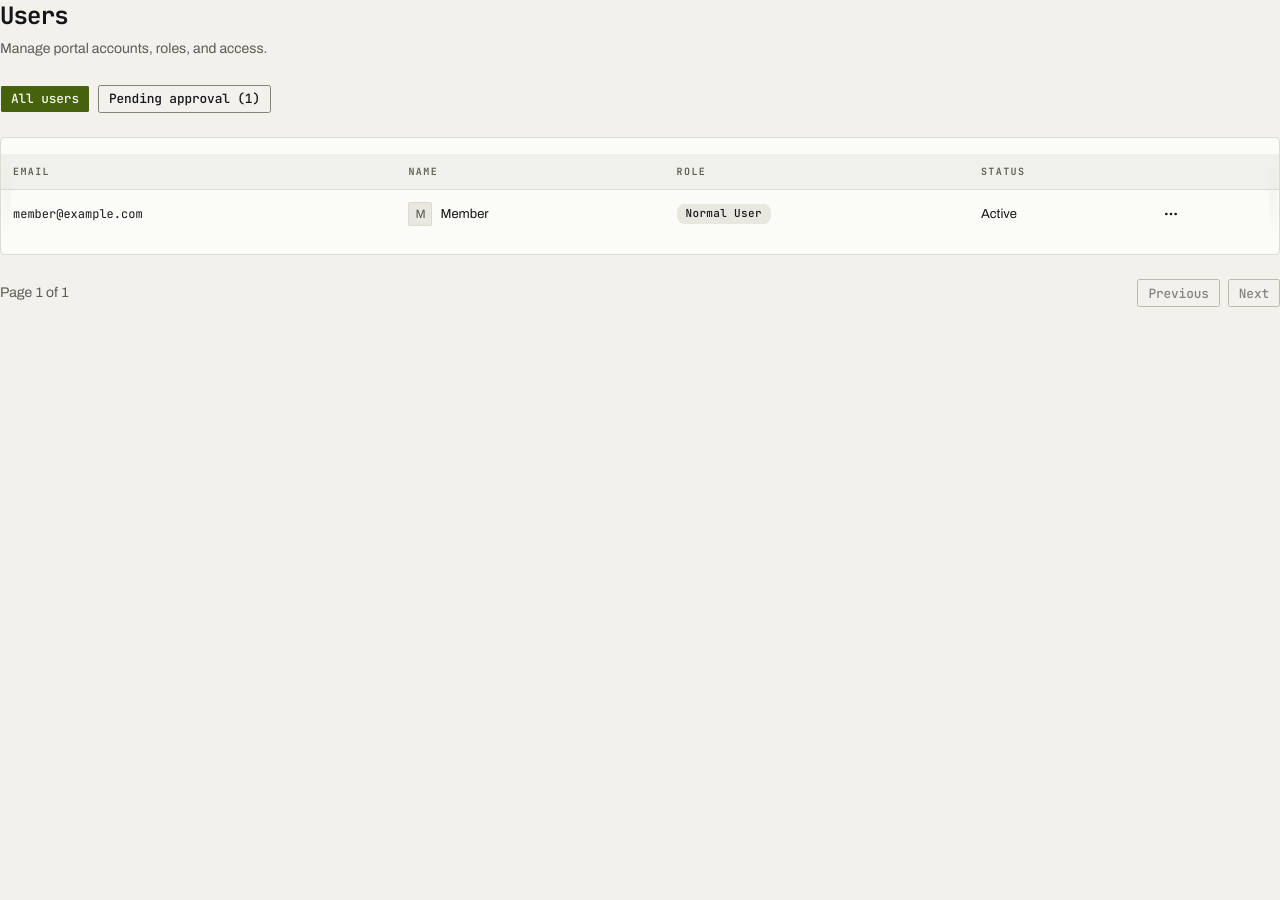
Test: AdminUsersPage role changes › cancelling the role confirmation changes nothing
The image size is (1280, 900).
Click the button named "Actions for": {"x": 1171, "y": 214} [1157,200,1185,228]
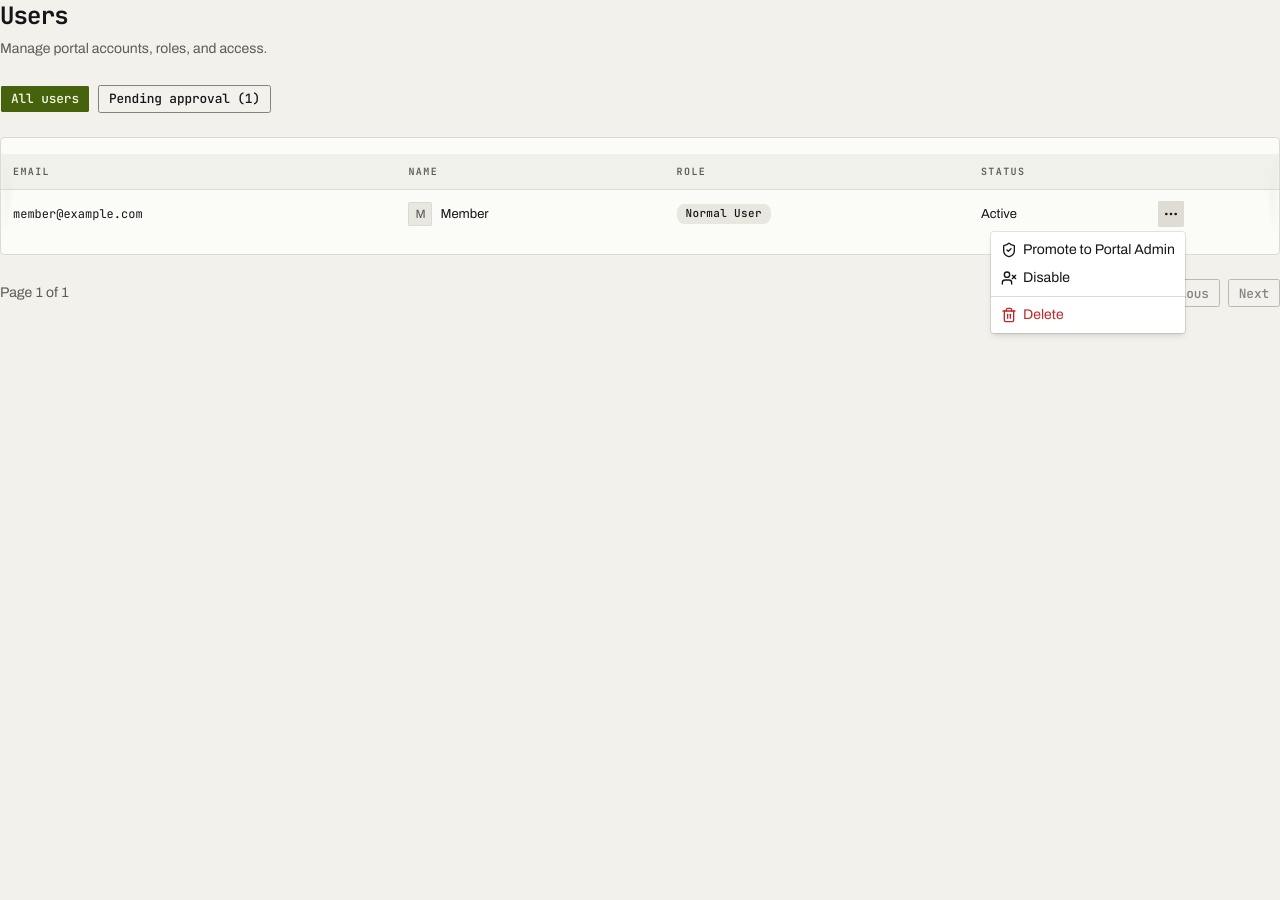
Click the menu item "Promote to Portal Admin": {"x": 1088, "y": 250} [1001,242,1175,258]
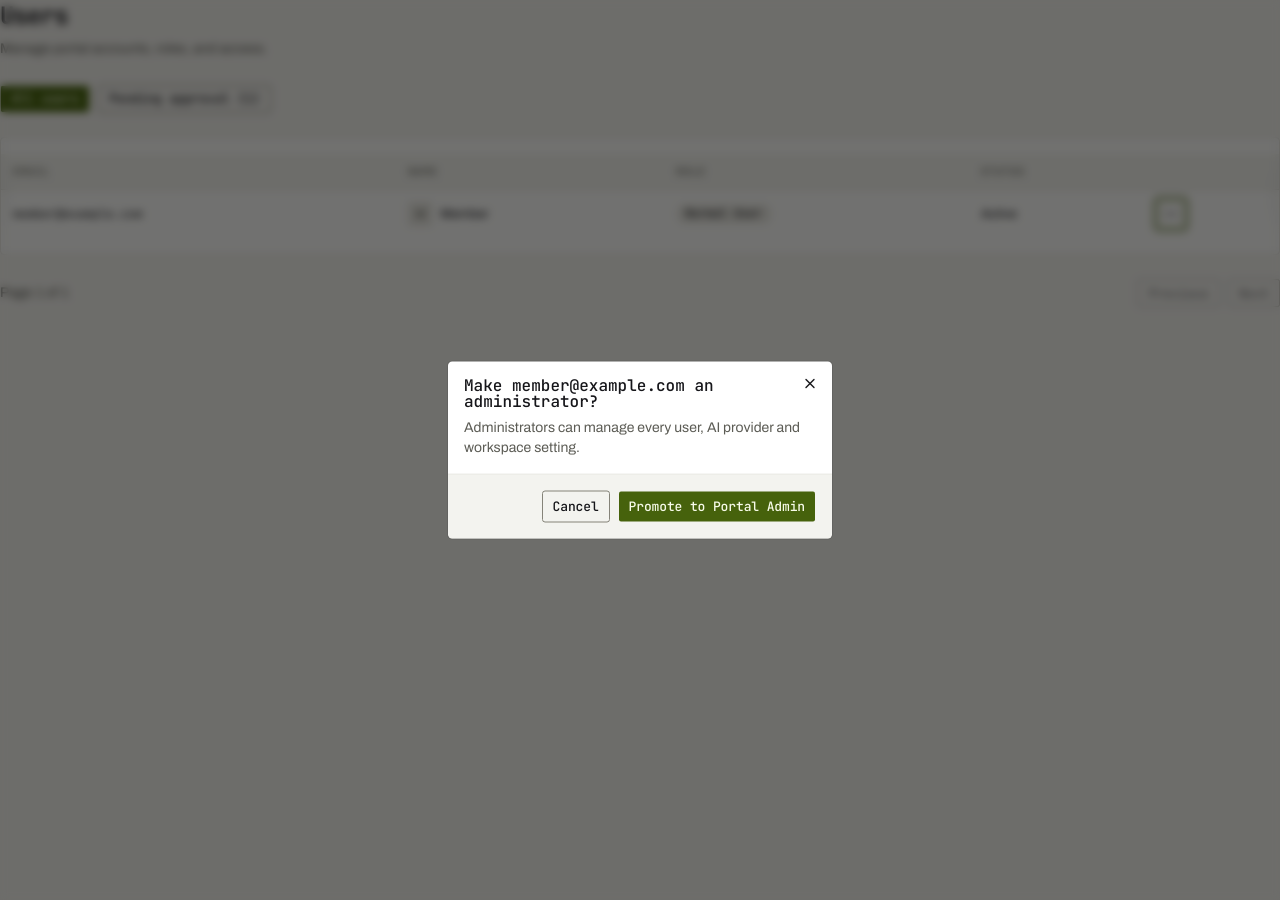
Click the button "Cancel": {"x": 576, "y": 506} [542,490,610,522]
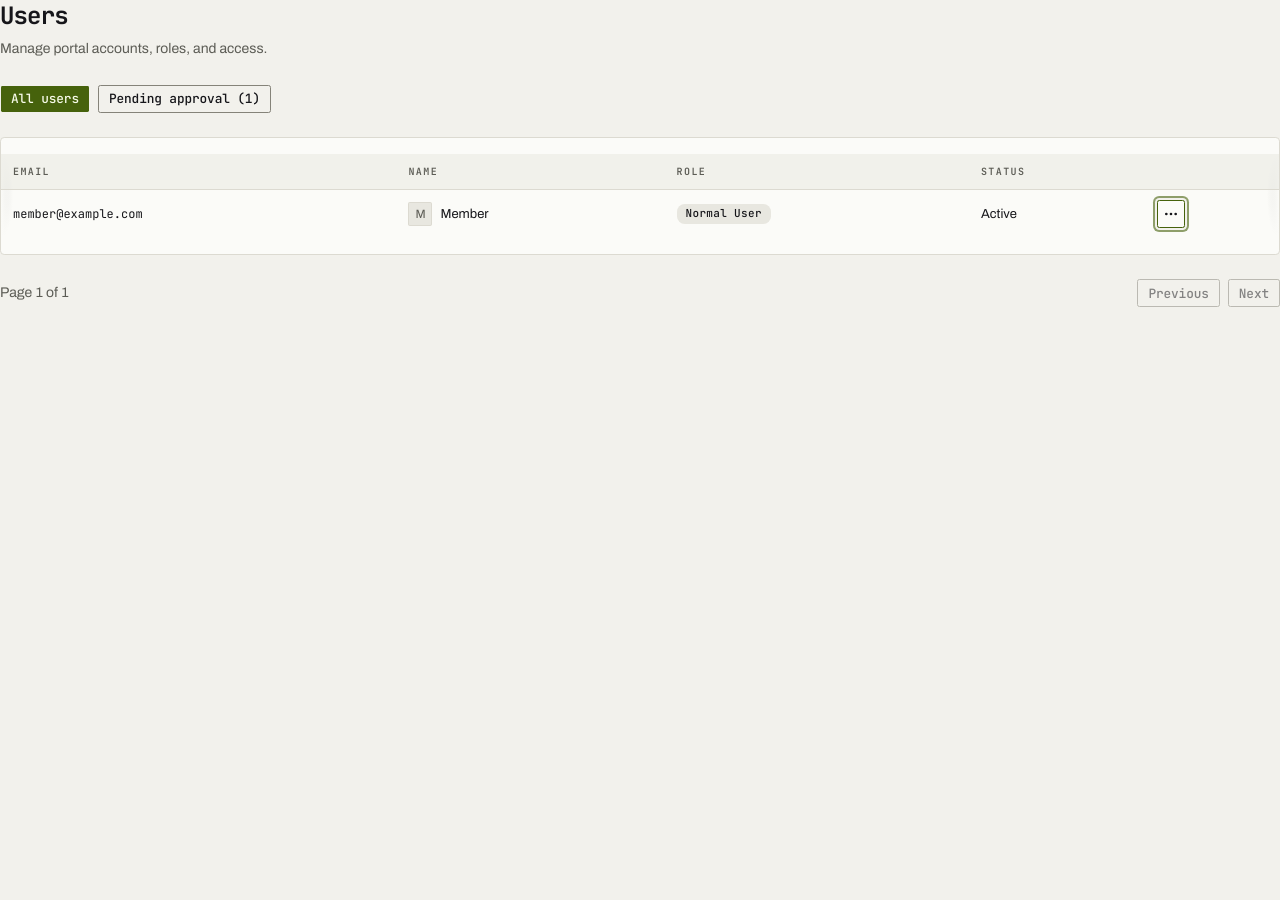
expect the dialog is gone: met
